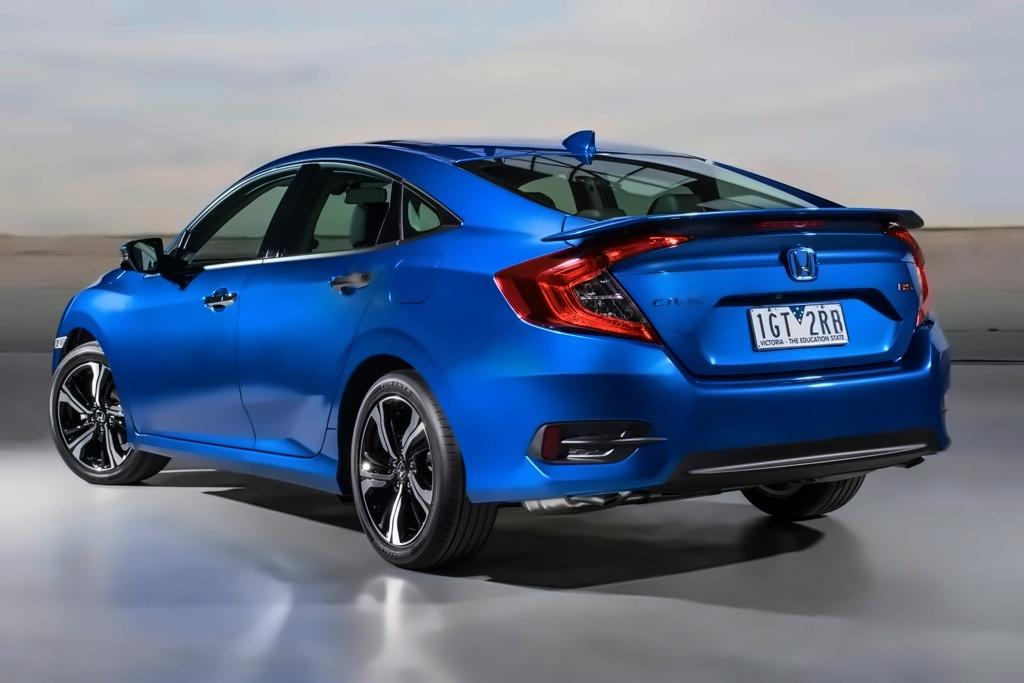Car boot: (563, 205, 926, 387)
Fender - -F-L-: (49, 260, 166, 407)
Fender - -R-L-: (316, 170, 591, 486)
Passenger-s door - -F-L-: (116, 130, 319, 478)
Passenger-s door - -R-L-: (233, 120, 404, 496)
Rear bumper: (465, 303, 962, 530)
Rear light - -L-: (490, 231, 696, 353)
Side bumper - -L-: (117, 403, 336, 507)
